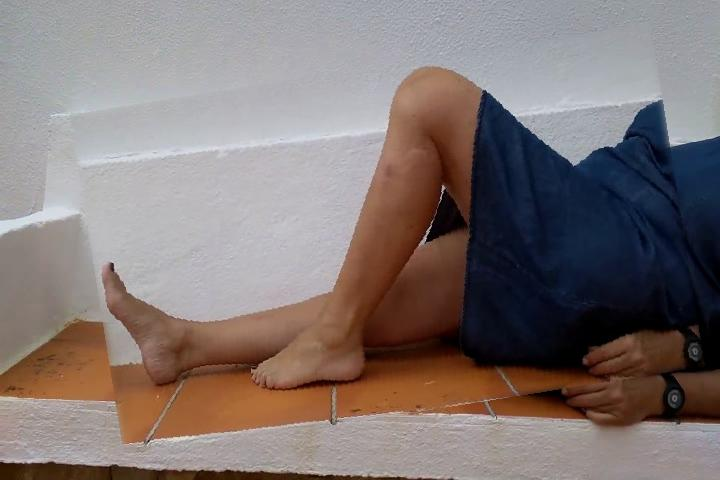lower_body: (83, 46, 695, 438)
